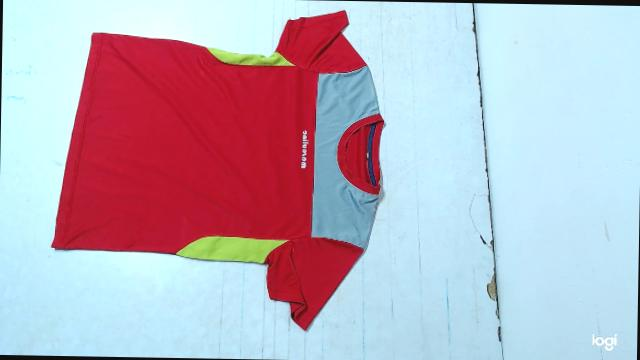new-garment: (51, 10, 383, 329)
